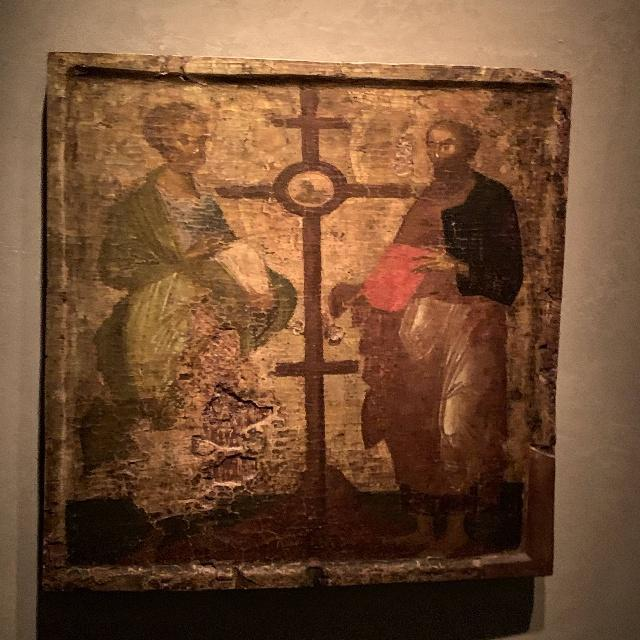saint: (87, 90, 302, 505), (352, 100, 518, 545)
